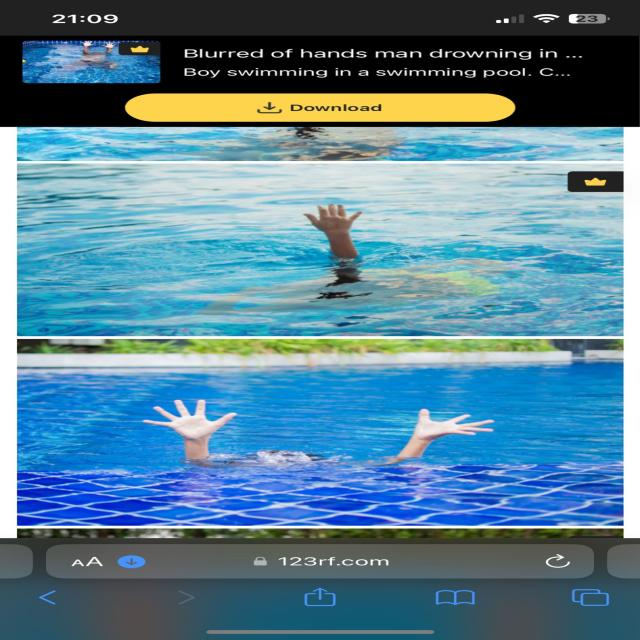Drowning: (137, 392, 489, 469), (254, 204, 502, 301)
